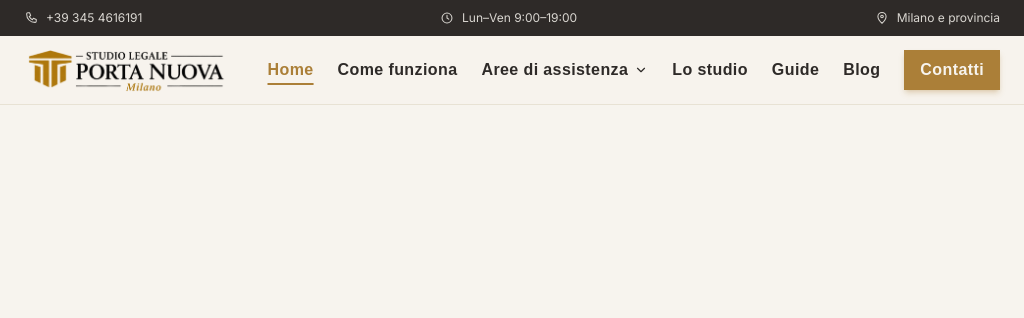
Test: Header › reveals the practice-area links when the dropdown is opened
The width and height of the screenshot is (1024, 318).
Click the button "Aree di assistenza": {"x": 565, "y": 70} [481,58,648,82]
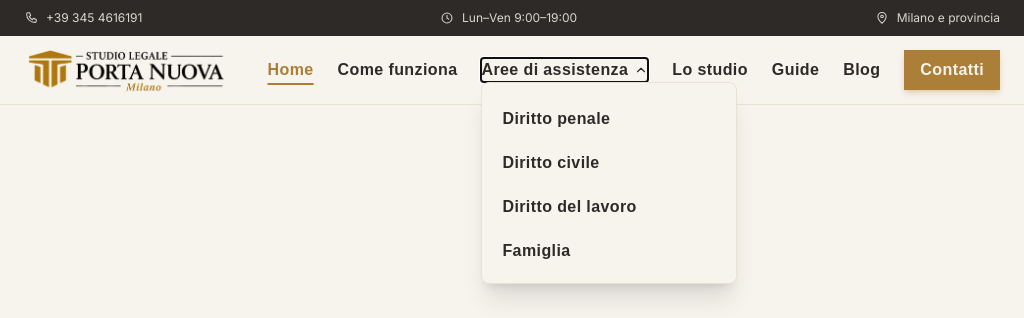
Now the link "Diritto penale" is shown, box [502,110,610,127]
Now the link "Diritto civile" is shown, box [502,154,600,171]
Now the link "Diritto del lavoro" is shown, box [502,198,637,215]
